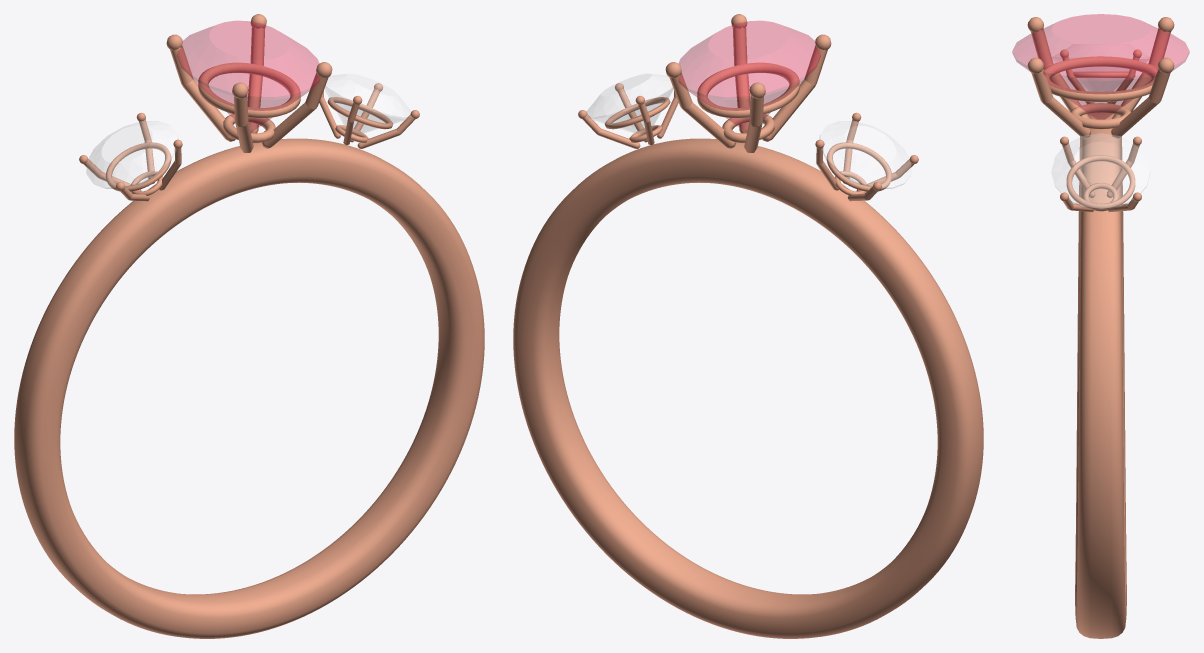
Rendered from ruby-ring.glb.
The picture shows the model from 3 angles, left to right: view 1: azimuth 30°, elevation 25°; view 2: azimuth 150°, elevation 25°; view 3: azimuth 270°, elevation 25°; orthographic projection.
Parts seen in each view (by area): view 1: metal, ruby, diamond; view 2: metal, ruby, diamond; view 3: metal, ruby, diamond.
Boxes of the visible parts, <box> form: metal: <box>14,14,484,638</box>; ruby: <box>177,21,319,132</box>; diamond: <box>86,73,411,188</box>; metal: <box>513,14,983,638</box>; ruby: <box>678,21,820,132</box>; diamond: <box>586,73,911,188</box>; metal: <box>1027,17,1174,638</box>; ruby: <box>1012,14,1189,119</box>; diamond: <box>1051,44,1150,209</box>.
Bounding box in the file's own units: 2.03 × 2.48 × 0.68.
